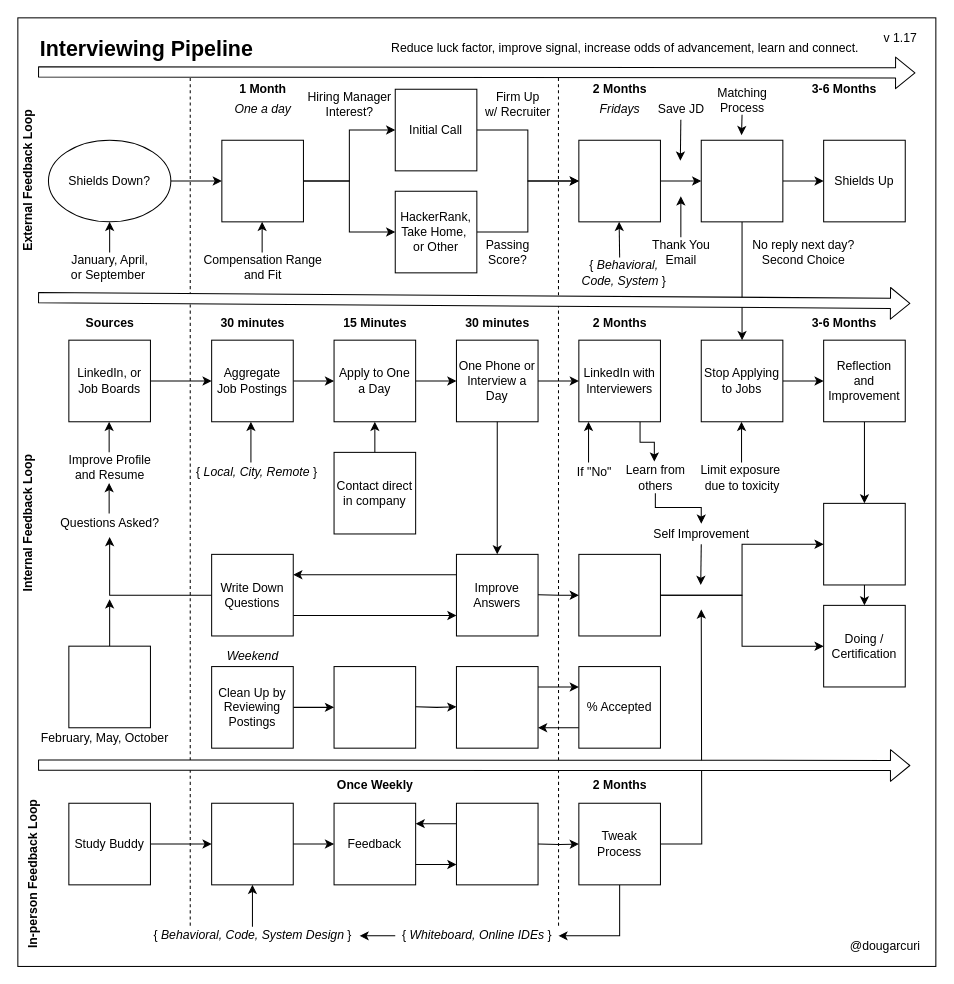
The diagram is 954 pixels wide and 984 high, and some of its shapes have lost their labels. The centre of each missing label's shape, as x and y in pixels:
Exploratory: point 262,180
Job Closed? Selected Other Candidate: point 374,707
Offer?: point 741,180
Onsite: point 619,180
Podcast / Reading / Thinking: point 864,543
Recruiting: point 109,686
Reflect / Improve Answers: point 496,843
Research / Hydrate Gaps: point 619,594
Role Play: point 252,843
Update Metrics: point 496,707
